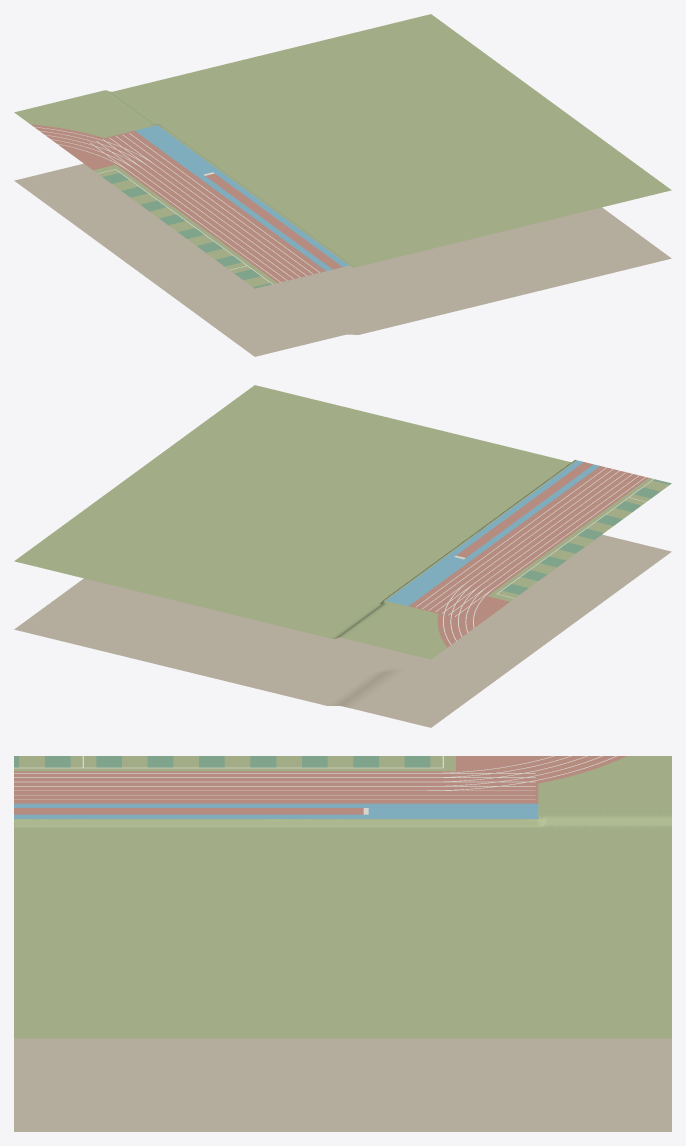
3 views of the same model, one above another, from view 1: azimuth 30°, elevation 25°; view 2: azimuth 150°, elevation 25°; view 3: azimuth 270°, elevation 25° (orthographic). The views are drawn at different scales.
Visible parts, largest first — view 1: s_2_-5__grass, s_2_-5__soil, s_2_-5__red_court, s_2_-5__blue_court, s_2_-5__white_marking, s_2_-5__green_court; view 2: s_2_-5__grass, s_2_-5__soil, s_2_-5__red_court, s_2_-5__blue_court, s_2_-5__white_marking, s_2_-5__green_court; view 3: s_2_-5__grass, s_2_-5__soil, s_2_-5__red_court, s_2_-5__blue_court, s_2_-5__white_marking, s_2_-5__green_court.
Part boxes in pixels (box(x1,y1,x2,y2)): s_2_-5__grass: box(14, 14, 671, 287); s_2_-5__soil: box(14, 163, 671, 356); s_2_-5__red_court: box(31, 124, 342, 282); s_2_-5__blue_court: box(135, 125, 348, 270); s_2_-5__white_marking: box(34, 127, 319, 284); s_2_-5__green_court: box(102, 173, 271, 288); s_2_-5__grass: box(14, 385, 669, 659); s_2_-5__soil: box(14, 534, 671, 727); s_2_-5__red_court: box(408, 462, 648, 647); s_2_-5__blue_court: box(386, 460, 599, 606); s_2_-5__white_marking: box(415, 467, 653, 644); s_2_-5__green_court: box(502, 479, 671, 594); s_2_-5__grass: box(14, 756, 671, 1038); s_2_-5__soil: box(14, 1038, 671, 1131); s_2_-5__red_court: box(14, 756, 626, 814); s_2_-5__blue_court: box(14, 803, 538, 818); s_2_-5__white_marking: box(14, 756, 617, 814); s_2_-5__green_court: box(14, 756, 430, 767).
Size of the model in its own units: 128 by 21.01 by 128.
